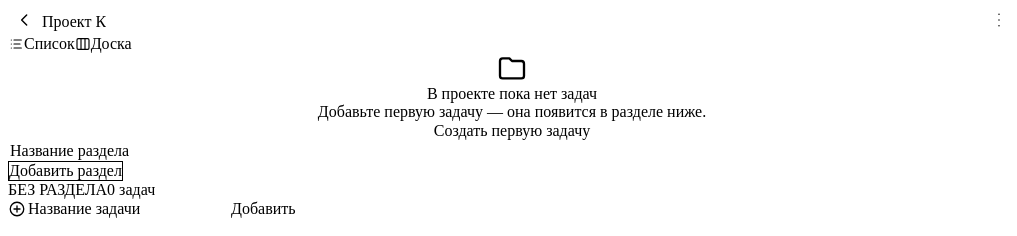
ProjectDetail — инлайн-добавление задачи › Enter создаёт задачу через createTaskCommand с captureState=processed и project context (§3)
Check: the text "В проекте пока нет задач" is shown, box [427,85,597,103]
Type "Новая задача" into the field with placeholder "Название задачи". click: (128, 209)
box: [26,199,230,219]
Then press Enter
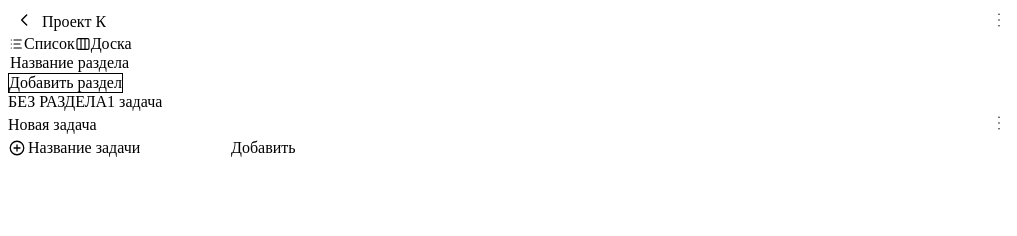
Check: the text "Новая задача" is shown, box [8,116,96,134]
